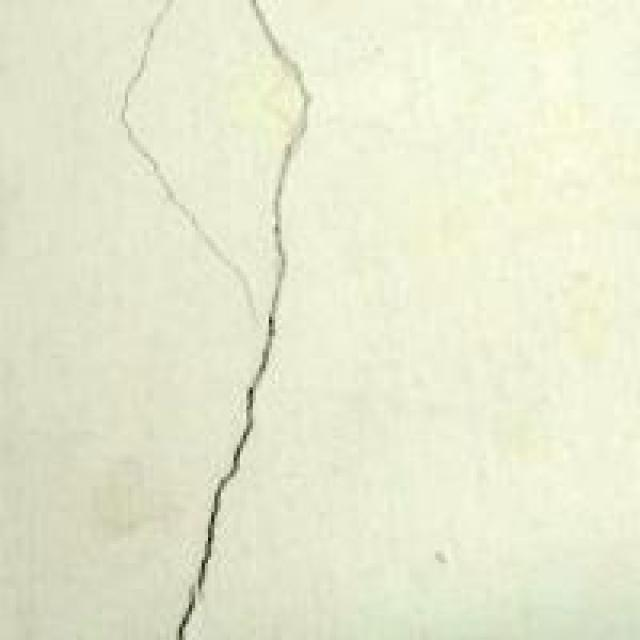Crack: (90, 0, 316, 637)
